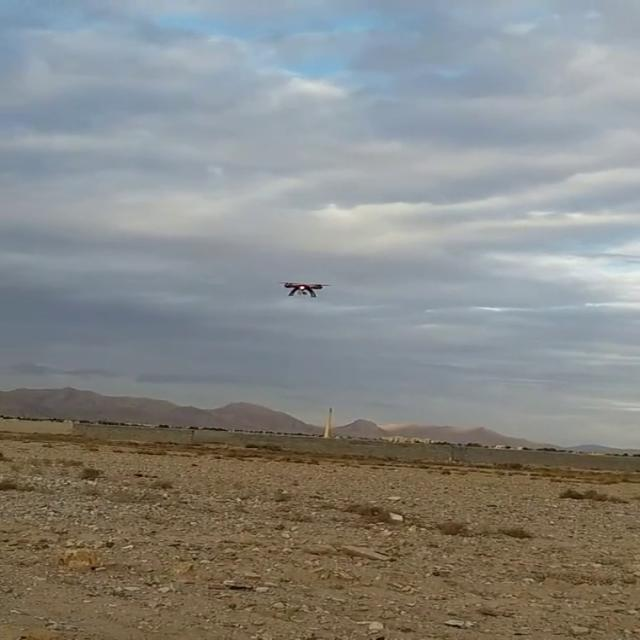drone: (272, 275, 333, 303)
